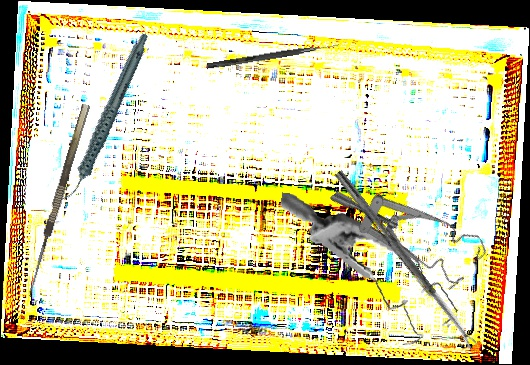Handpiece: (30, 31, 181, 205)
Hook Surgical: (24, 103, 101, 301), (206, 40, 340, 71)
Speculum: (263, 192, 471, 352), (329, 140, 494, 311)
Surgical Spoon: (333, 169, 478, 351)
